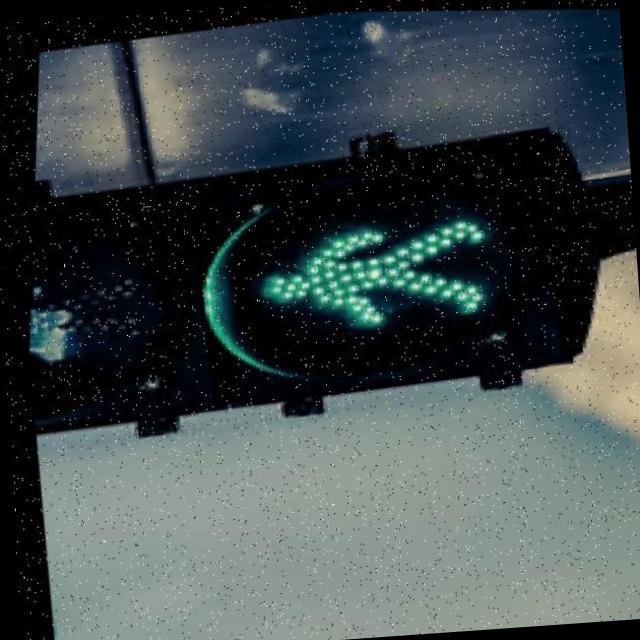green_light: (224, 172, 505, 376)
